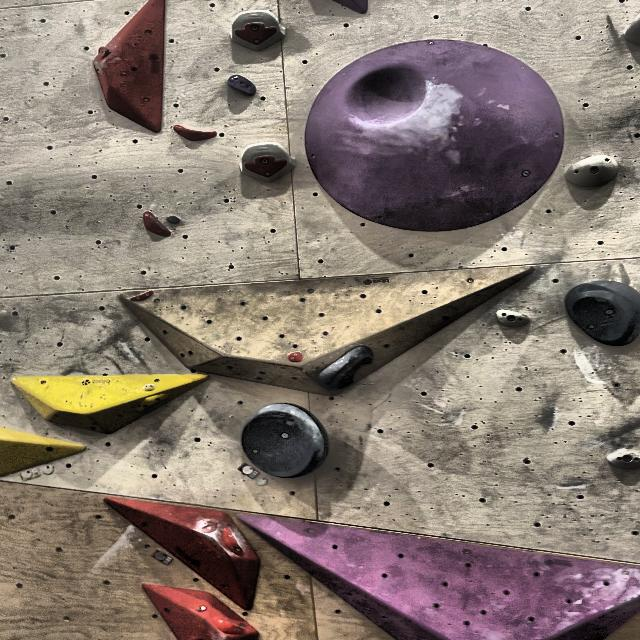Downclimb: (232, 10, 286, 50), (242, 144, 293, 180)
Hold: (242, 406, 327, 478), (565, 281, 640, 346), (317, 345, 373, 391), (566, 154, 618, 187), (173, 124, 218, 141), (143, 211, 172, 237), (607, 448, 640, 470), (227, 74, 257, 96), (496, 308, 530, 327), (137, 394, 168, 413), (129, 290, 154, 302), (287, 351, 304, 363), (166, 215, 181, 225), (142, 383, 158, 391)
Macro: (305, 40, 563, 232)
Volume: (121, 267, 532, 395), (244, 516, 640, 640), (104, 497, 259, 608), (11, 374, 207, 433), (93, 0, 166, 132), (143, 584, 258, 640)
start_tag: (238, 463, 260, 478), (153, 550, 173, 565), (19, 469, 38, 480), (254, 473, 268, 486), (41, 464, 54, 475)
